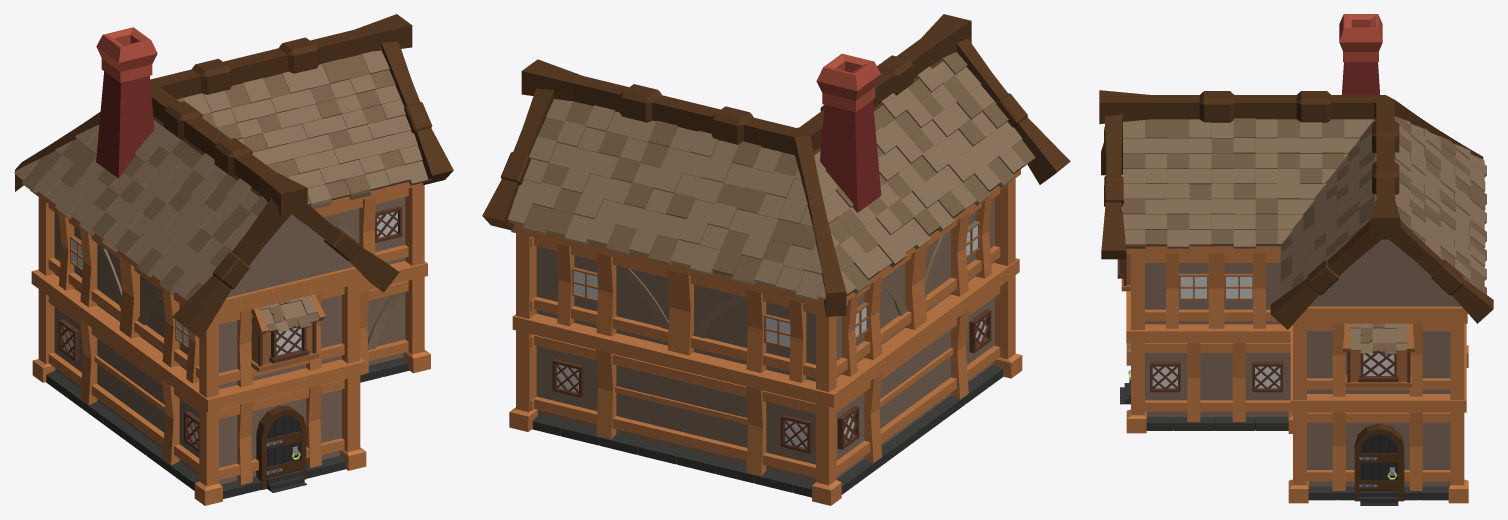
File: SM_Hous_19_B.gltf
The picture shows the model from 3 angles, left to right: view 1: azimuth 30°, elevation 25°; view 2: azimuth 150°, elevation 25°; view 3: azimuth 270°, elevation 25°; orthographic projection. The views are drawn at different scales.
Parts seen in each view (by area): view 1: SM_Hous_19_B; view 2: SM_Hous_19_B; view 3: SM_Hous_19_B.
Part boxes in pixels (x1,y1,x2,y2): SM_Hous_19_B: (14,14,453,505); SM_Hous_19_B: (482,14,1070,505); SM_Hous_19_B: (1099,14,1493,505).
Size of the model in its own units: 13.19 by 12.71 by 12.72.
